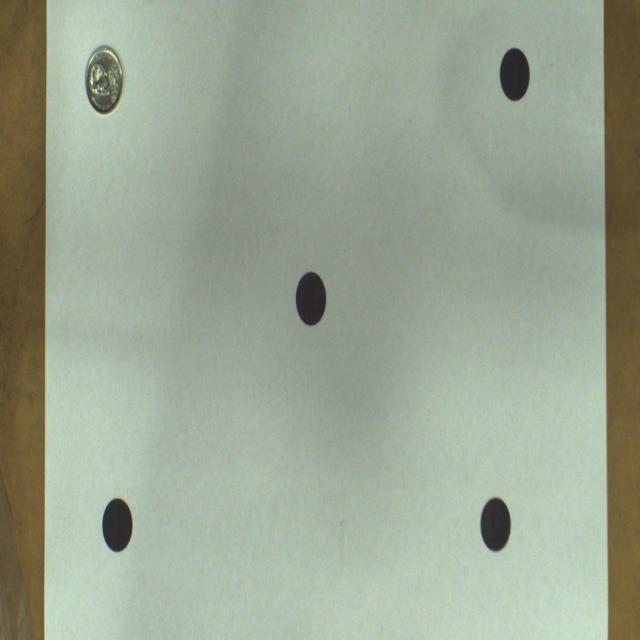head1bath: (85, 47, 122, 113)
space: (296, 271, 326, 327), (480, 498, 511, 551), (102, 498, 132, 551), (500, 49, 530, 100)
